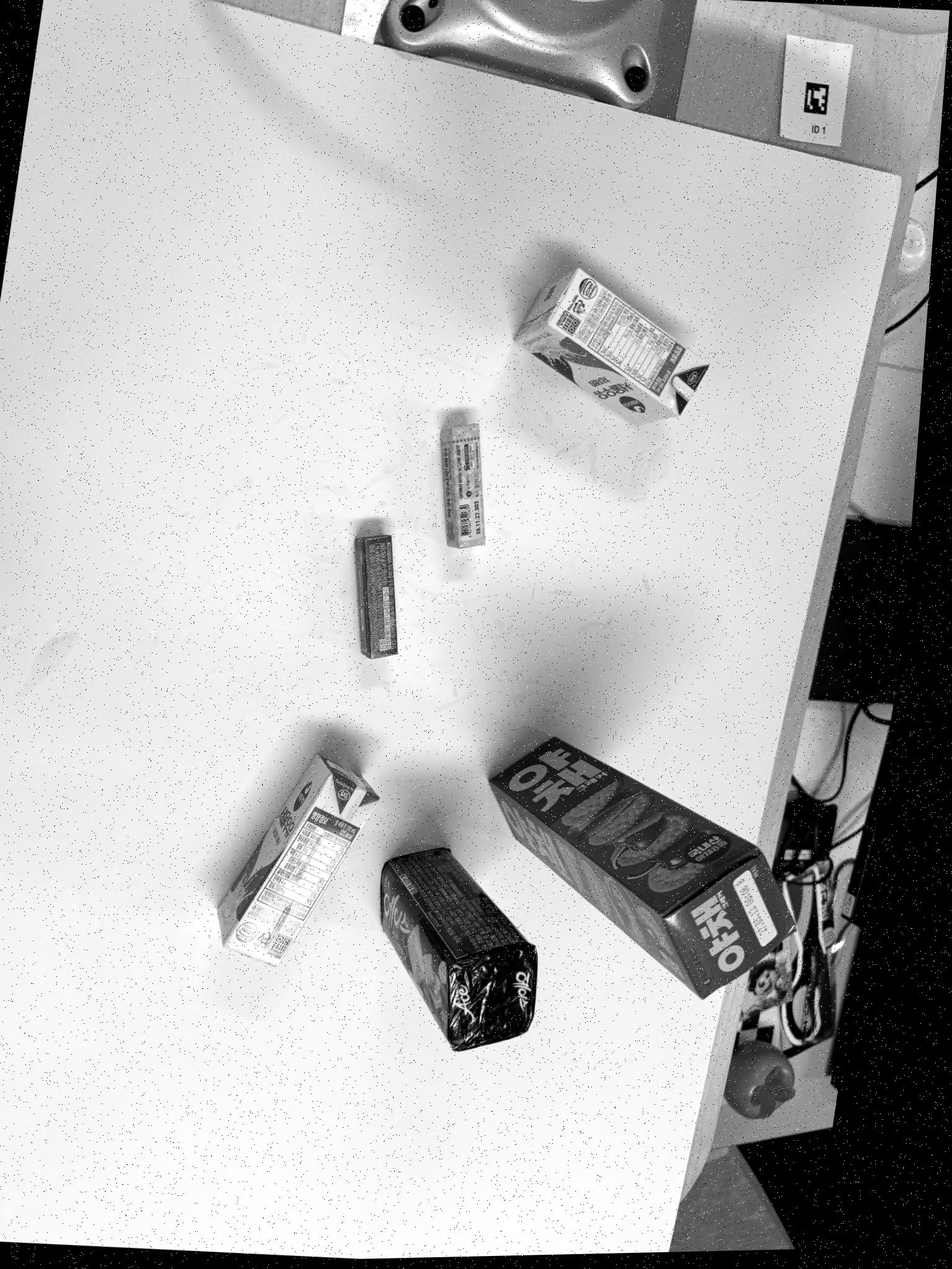cracker_ace: (380, 848, 536, 1050)
cracker_vege: (489, 737, 794, 998)
gum_green: (354, 535, 397, 659)
gum_yellow: (440, 423, 485, 549)
milk_blue: (514, 269, 708, 422)
milk_green: (218, 754, 378, 966)
